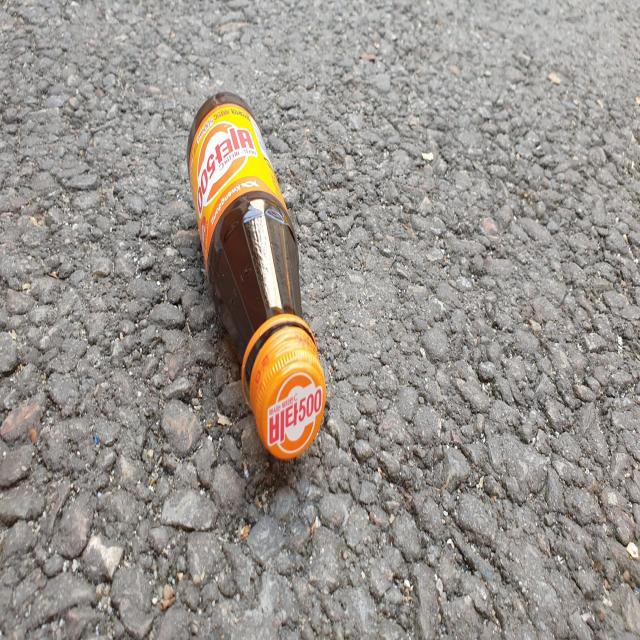glass: (187, 91, 326, 459)
